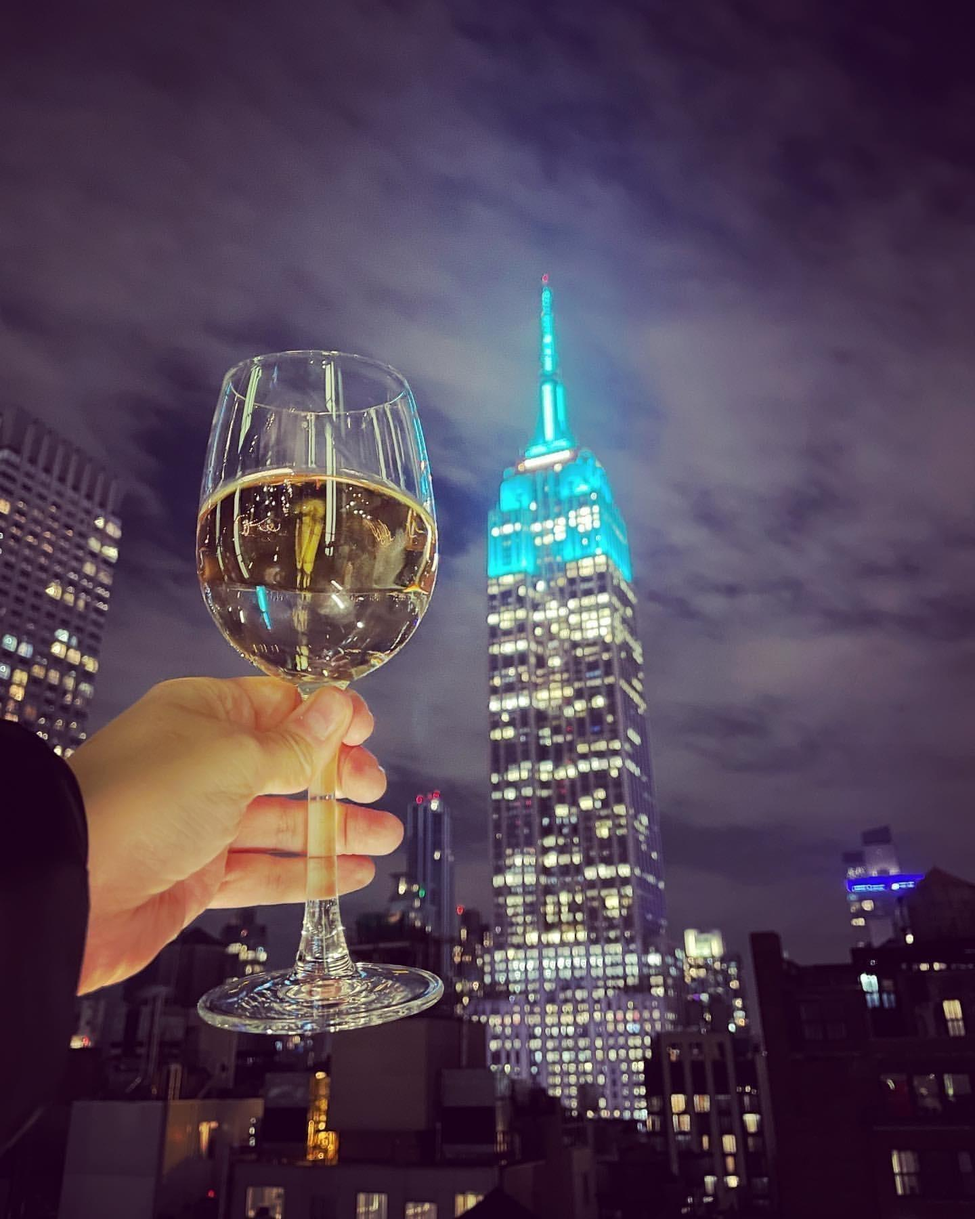glass-wine: (187, 339, 460, 1044)
